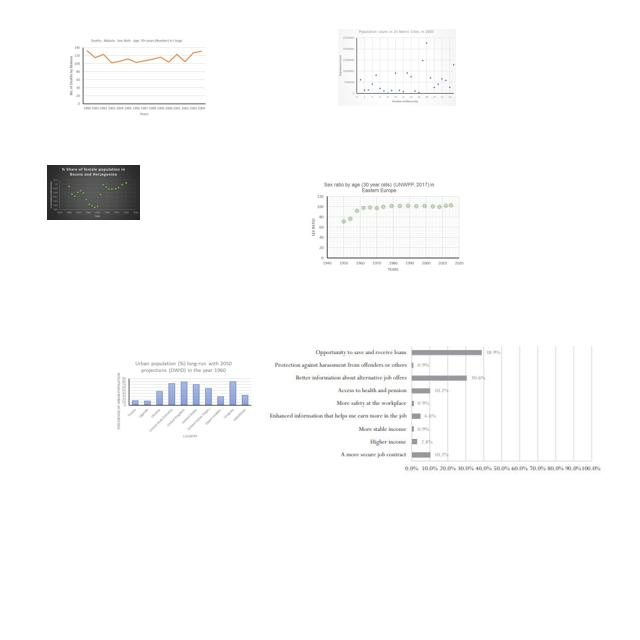Graph: (266, 330, 607, 477), (307, 180, 465, 273), (65, 36, 207, 119), (114, 359, 253, 440), (338, 29, 456, 106), (47, 165, 140, 220)
